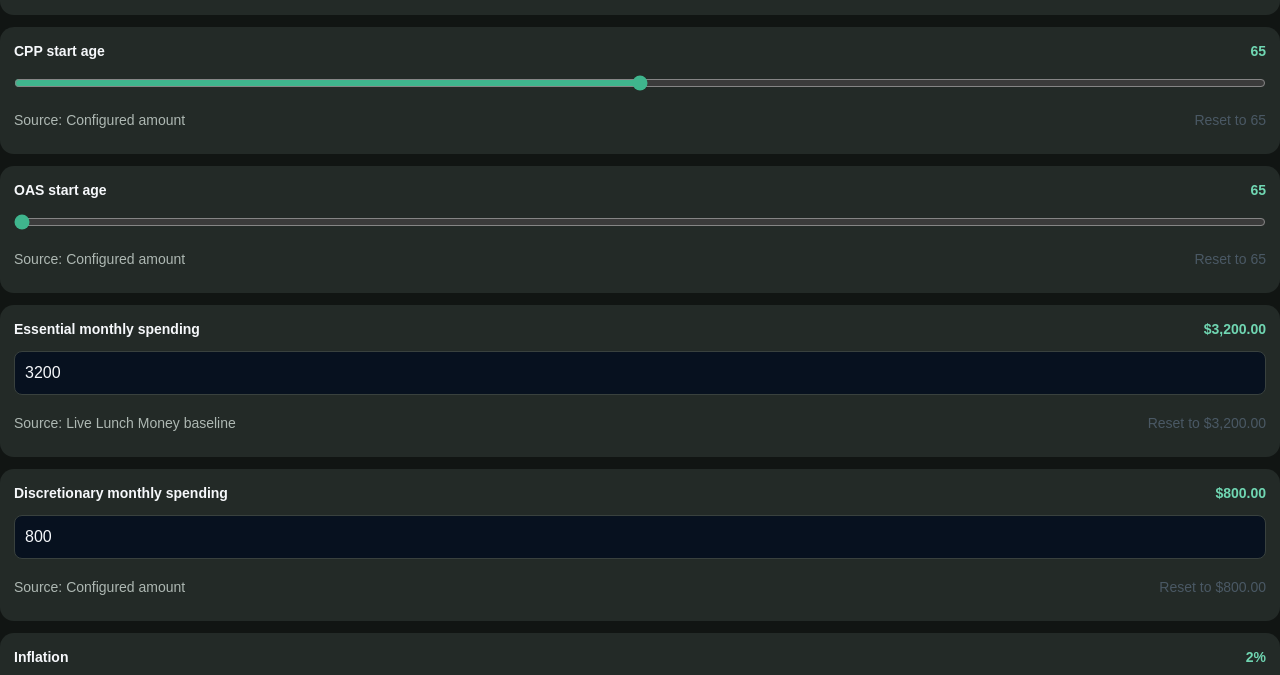
Test: precise scenario input semantics › keeps an empty currency draft without temporarily applying zero
This screenshot has width=1280, height=675.
(page scrolled)
Clear the number field labelled "Essential monthly spending" at (640, 373), box x1=14 y1=351 x2=1266 y2=395
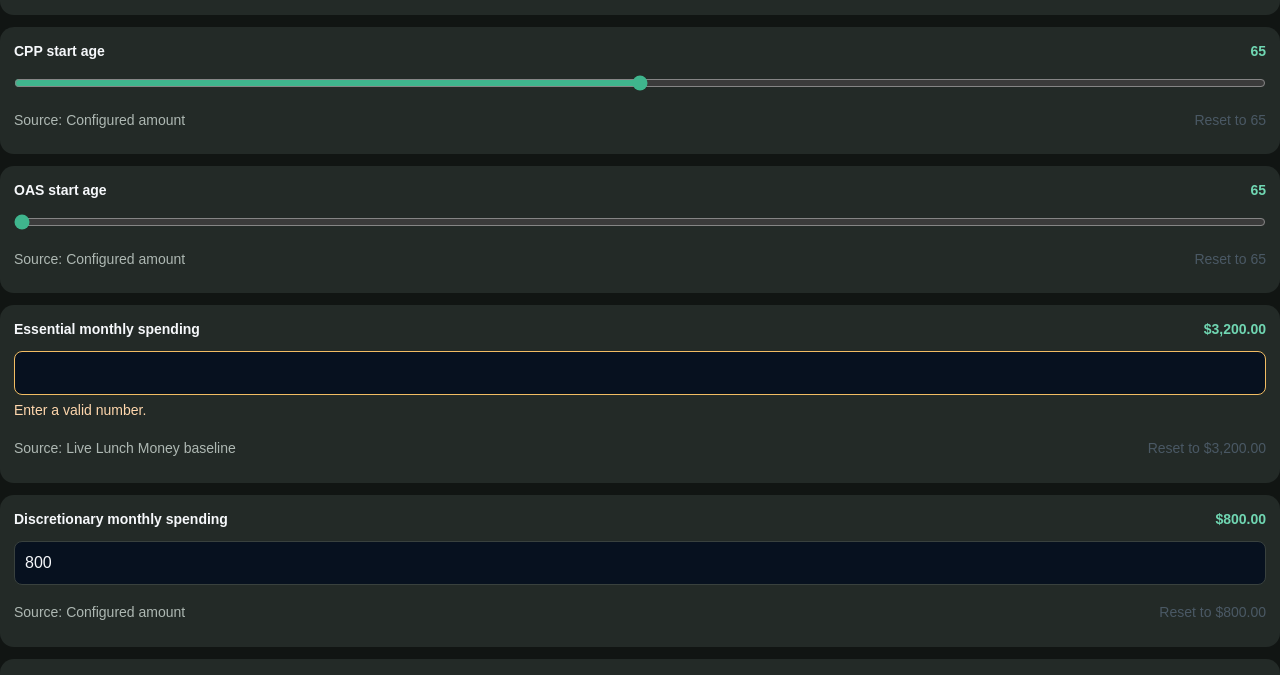
Expected: the text "Enter a valid number." is shown, x1=14 y1=402 x2=146 y2=418
